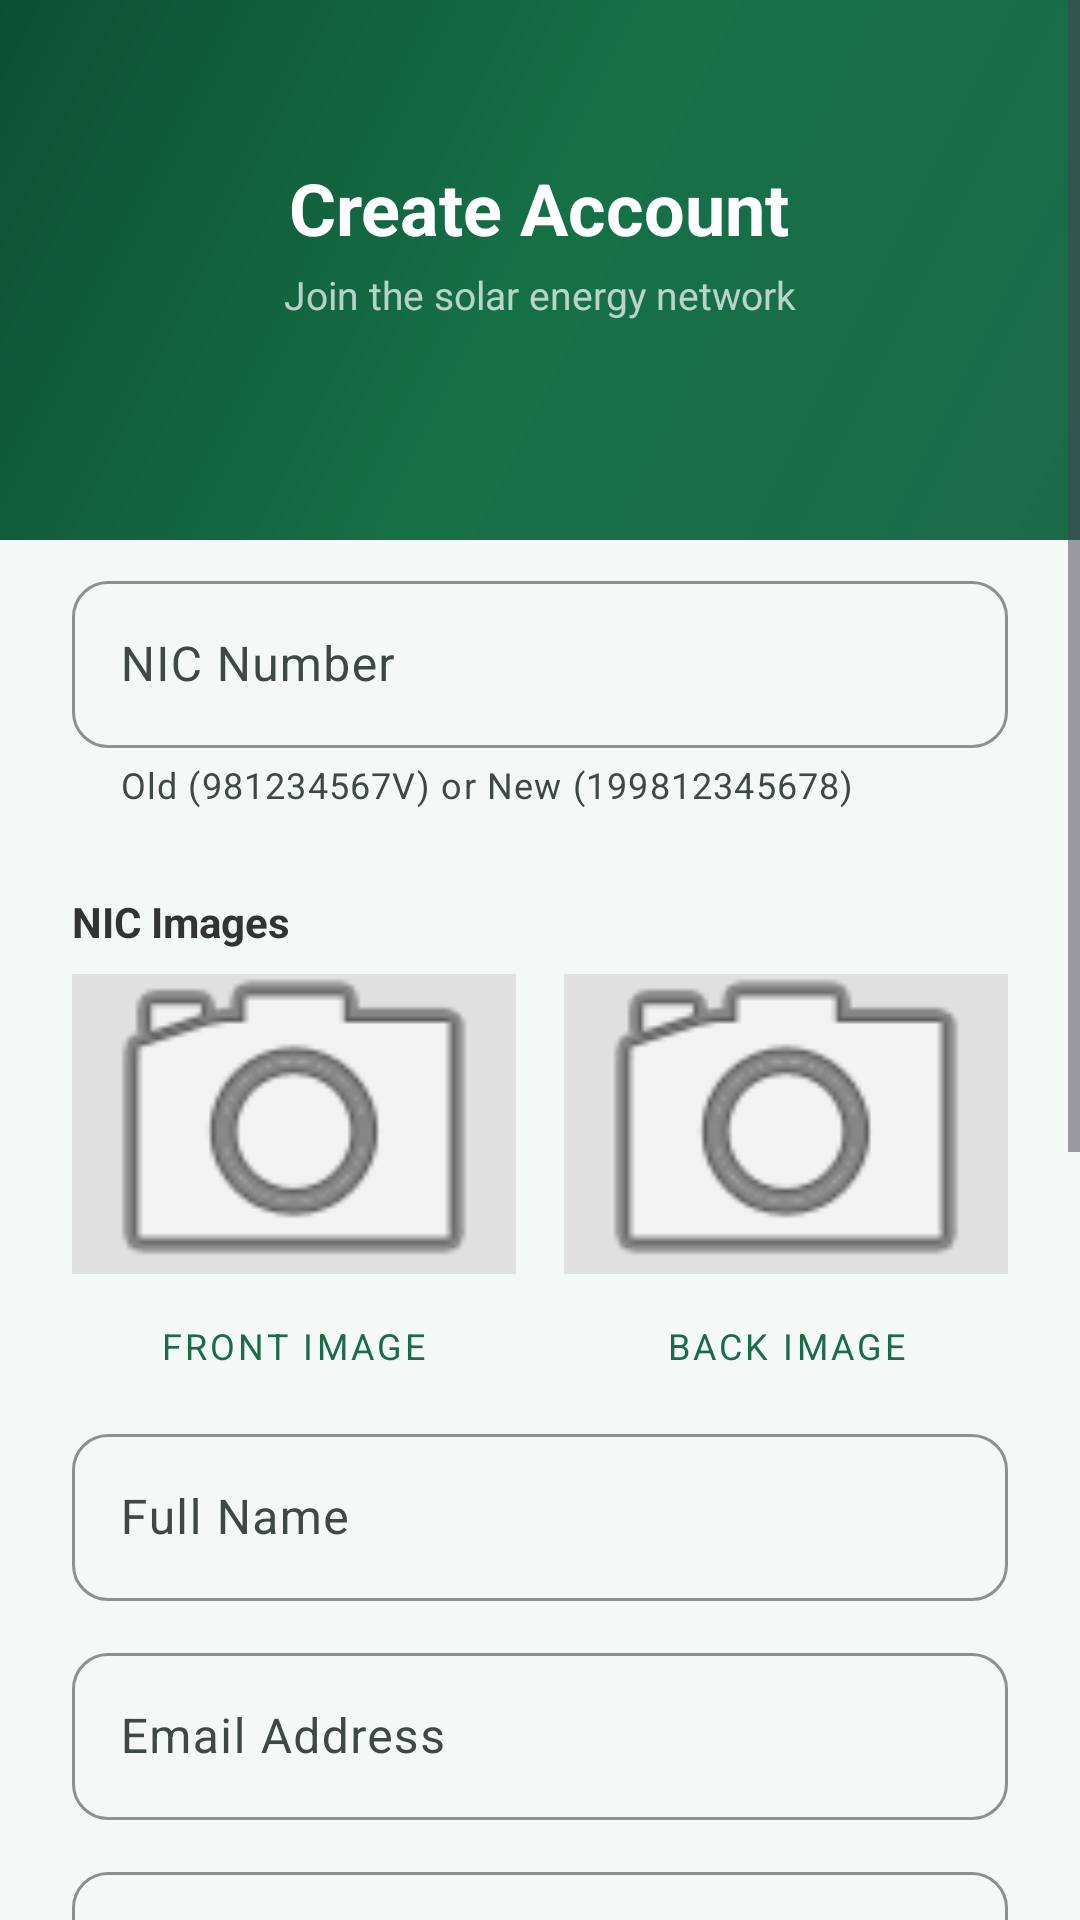

Point at icon controls on the screen. Image size 1080 × 1920, points as [x,y].
camera: [294,1117], [786,1117]
